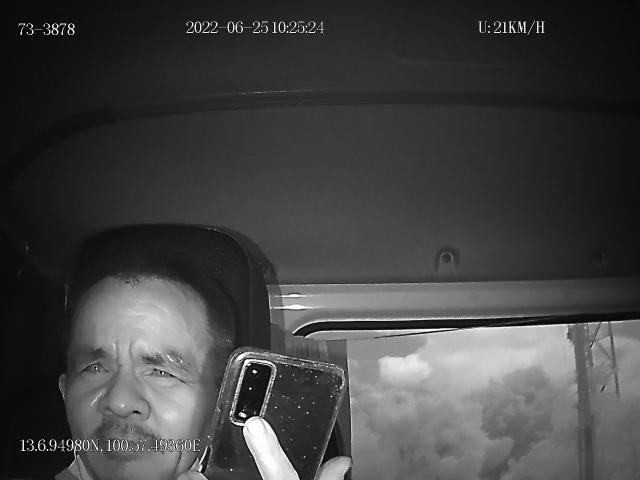PhoneUse: (207, 344, 346, 480)
SafeDriving: (136, 352, 186, 387), (72, 350, 114, 384)
